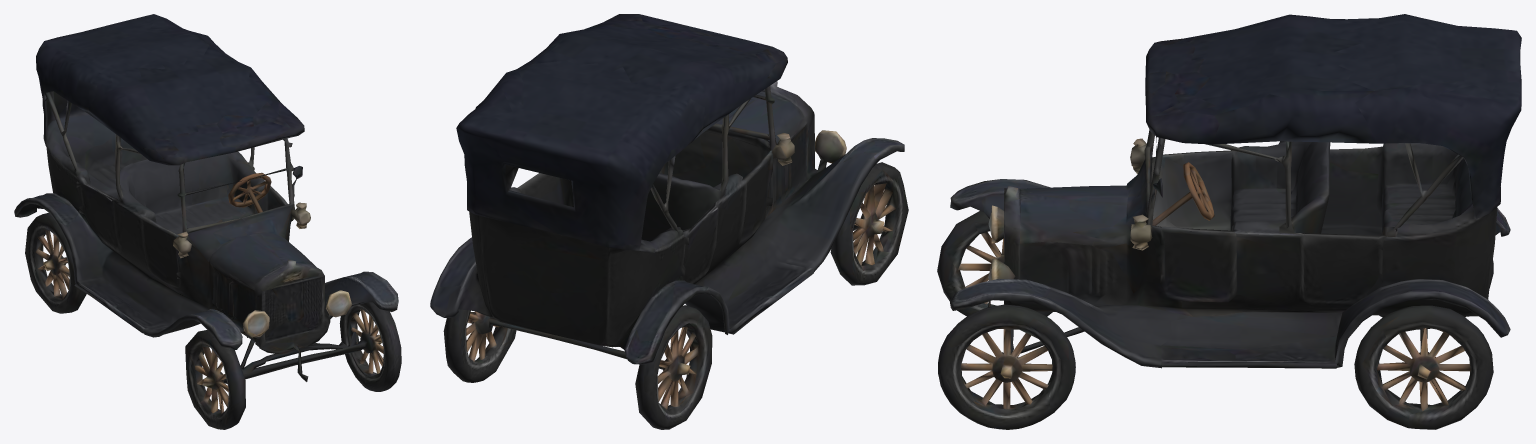
3 views of the same model, side by side, from view 1: azimuth 30°, elevation 25°; view 2: azimuth 150°, elevation 25°; view 3: azimuth 270°, elevation 25° (orthographic). The views are drawn at different scales.
Visible parts, largest first — view 1: tripo_node_26c9ba1f-f979-4532-ac20-bea7c9be3524; view 2: tripo_node_26c9ba1f-f979-4532-ac20-bea7c9be3524; view 3: tripo_node_26c9ba1f-f979-4532-ac20-bea7c9be3524.
Part boxes in pixels (bbox=[...]): tripo_node_26c9ba1f-f979-4532-ac20-bea7c9be3524: bbox=[14, 14, 401, 429]; tripo_node_26c9ba1f-f979-4532-ac20-bea7c9be3524: bbox=[430, 14, 908, 429]; tripo_node_26c9ba1f-f979-4532-ac20-bea7c9be3524: bbox=[937, 14, 1521, 429].
Bounding box in the file's own units: 0.4738 × 0.6057 × 0.9809.
1 material, 1 textured.
